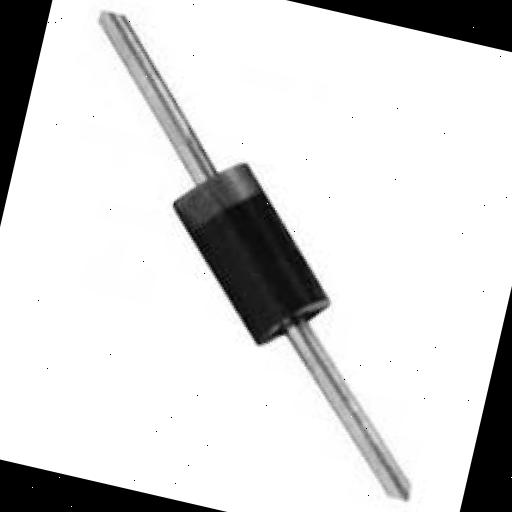DIODE: (4, 4, 502, 502)
